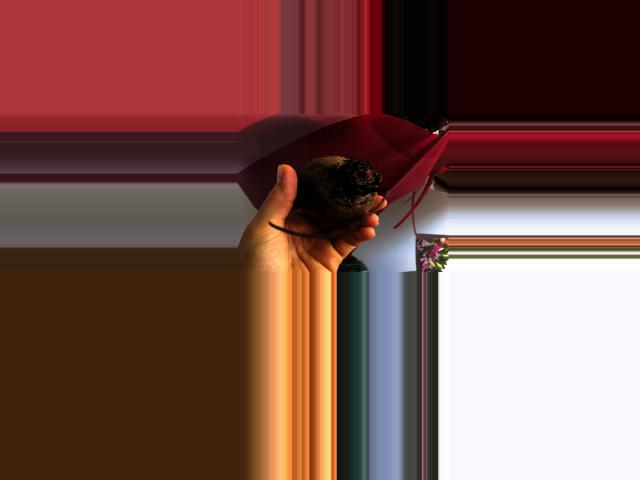beet: (268, 156, 390, 238)
